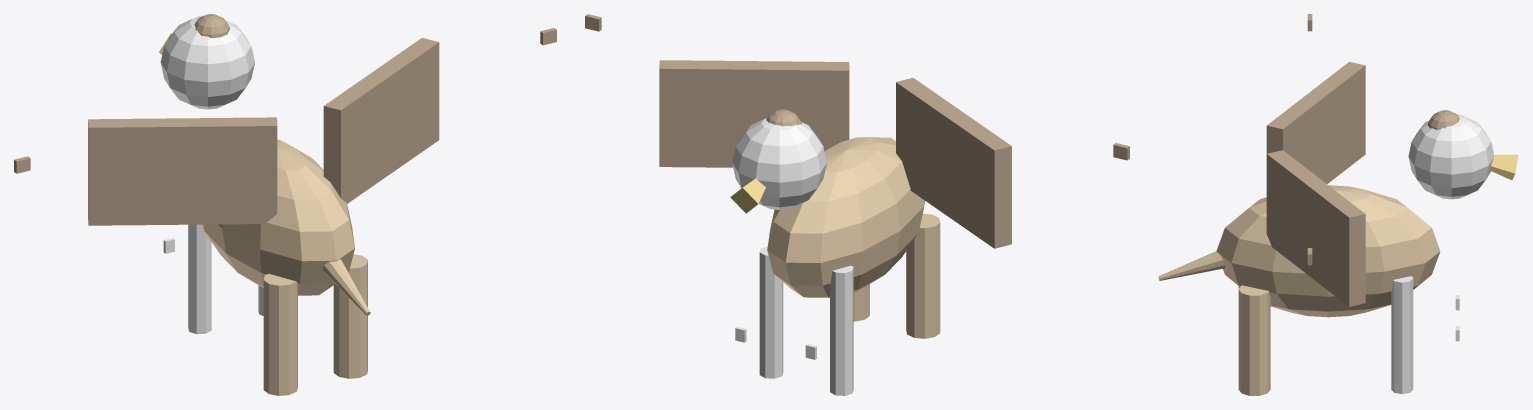
File: griffin.glb
3 views of the same model, side by side, from view 1: azimuth 30°, elevation 25°; view 2: azimuth 150°, elevation 25°; view 3: azimuth 270°, elevation 25° (orthographic). The views are drawn at different scales.
Parts seen in each view (by area): view 1: griffin_wing_L, griffin_wing_R, griffin_body, griffin_head, griffin_leg_BL, griffin_leg_BR, griffin_leg_FL, griffin_tail, griffin_jambul; view 2: griffin_body, griffin_wing_R, griffin_wing_L, griffin_head, griffin_leg_BL, griffin_leg_FL, griffin_leg_FR, griffin_paruh, griffin_leg_BR; view 3: griffin_body, griffin_wing_R, griffin_wing_L, griffin_head, griffin_leg_BR, griffin_leg_FR, griffin_tail, griffin_paruh, griffin_jambul.
Boxes of the visible parts, x1,y1,x2,y2 form: griffin_wing_L: [88, 117, 277, 225]; griffin_wing_R: [323, 38, 439, 203]; griffin_body: [203, 139, 354, 295]; griffin_head: [160, 15, 254, 109]; griffin_leg_BL: [263, 273, 297, 395]; griffin_leg_BR: [333, 254, 367, 378]; griffin_leg_FL: [188, 224, 211, 334]; griffin_tail: [323, 259, 370, 315]; griffin_jambul: [194, 14, 230, 38]; griffin_body: [767, 137, 924, 297]; griffin_wing_R: [659, 60, 849, 167]; griffin_wing_L: [896, 77, 1011, 248]; griffin_head: [732, 118, 826, 209]; griffin_leg_BL: [906, 213, 940, 338]; griffin_leg_FL: [830, 265, 853, 395]; griffin_leg_FR: [759, 246, 783, 378]; griffin_paruh: [730, 178, 765, 213]; griffin_leg_BR: [853, 284, 869, 321]; griffin_body: [1216, 185, 1440, 317]; griffin_wing_R: [1266, 150, 1365, 306]; griffin_wing_L: [1266, 61, 1365, 183]; griffin_head: [1408, 114, 1494, 199]; griffin_leg_BR: [1238, 285, 1270, 395]; griffin_leg_FR: [1391, 276, 1413, 394]; griffin_tail: [1158, 251, 1224, 280]; griffin_paruh: [1491, 154, 1518, 180]; griffin_jambul: [1427, 110, 1459, 129].
Bounding box in the file's own units: 4.62 × 2.35 × 2.93.
